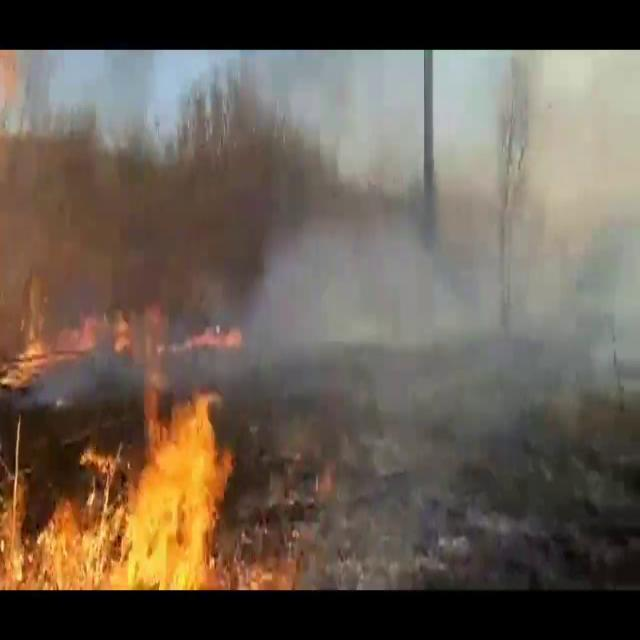Fire: (1, 392, 238, 586), (0, 266, 64, 379)
Smoke: (213, 67, 640, 581)
